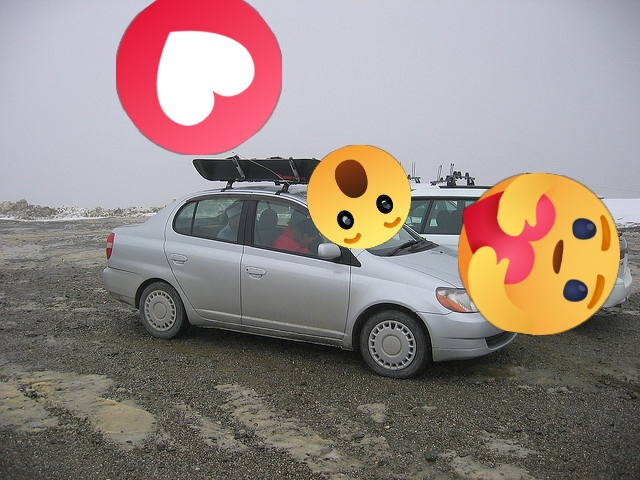care: (458, 173, 620, 335)
love: (116, 0, 282, 155)
wow: (307, 145, 411, 249)
